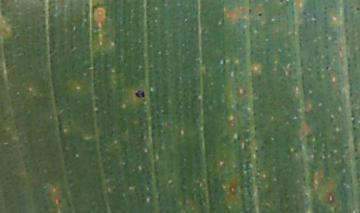tarspot: (133, 89, 147, 98), (355, 5, 360, 13), (248, 8, 253, 14), (256, 13, 263, 17)
